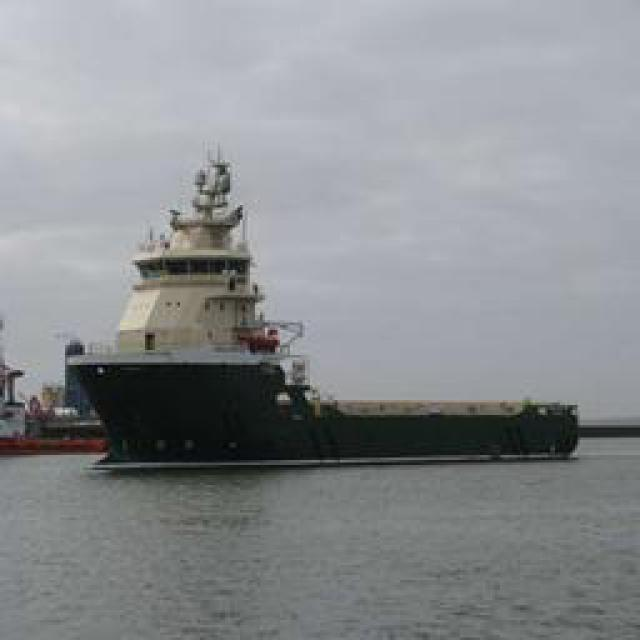Ship: (76, 148, 594, 467)
